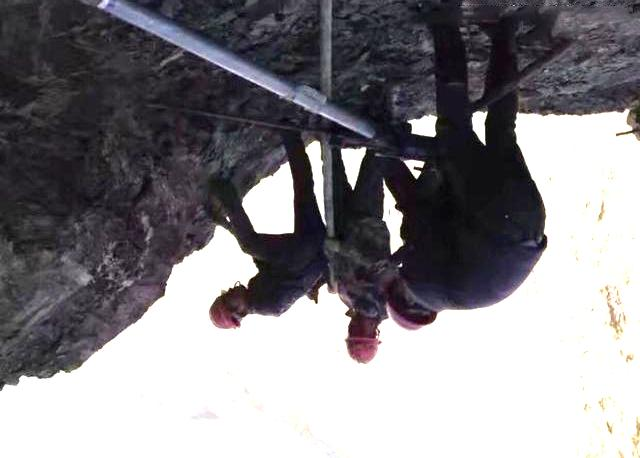helmet: (384, 279, 437, 331), (209, 284, 250, 331), (345, 315, 381, 365)
